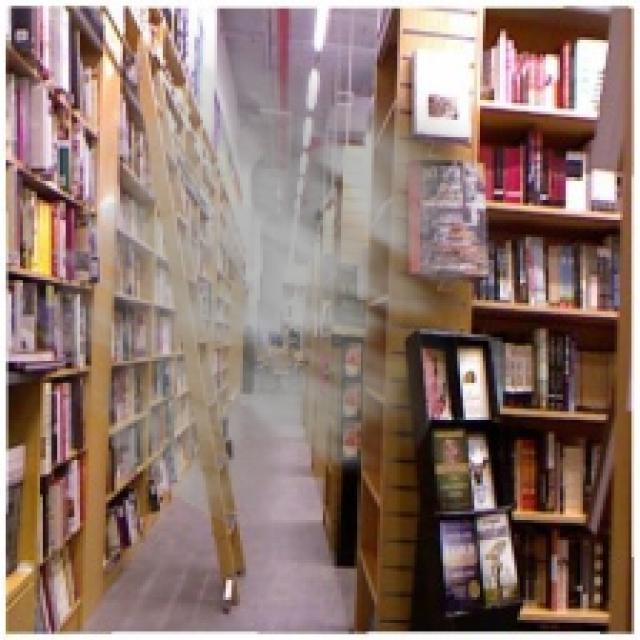Smoke: (11, 26, 546, 546)
